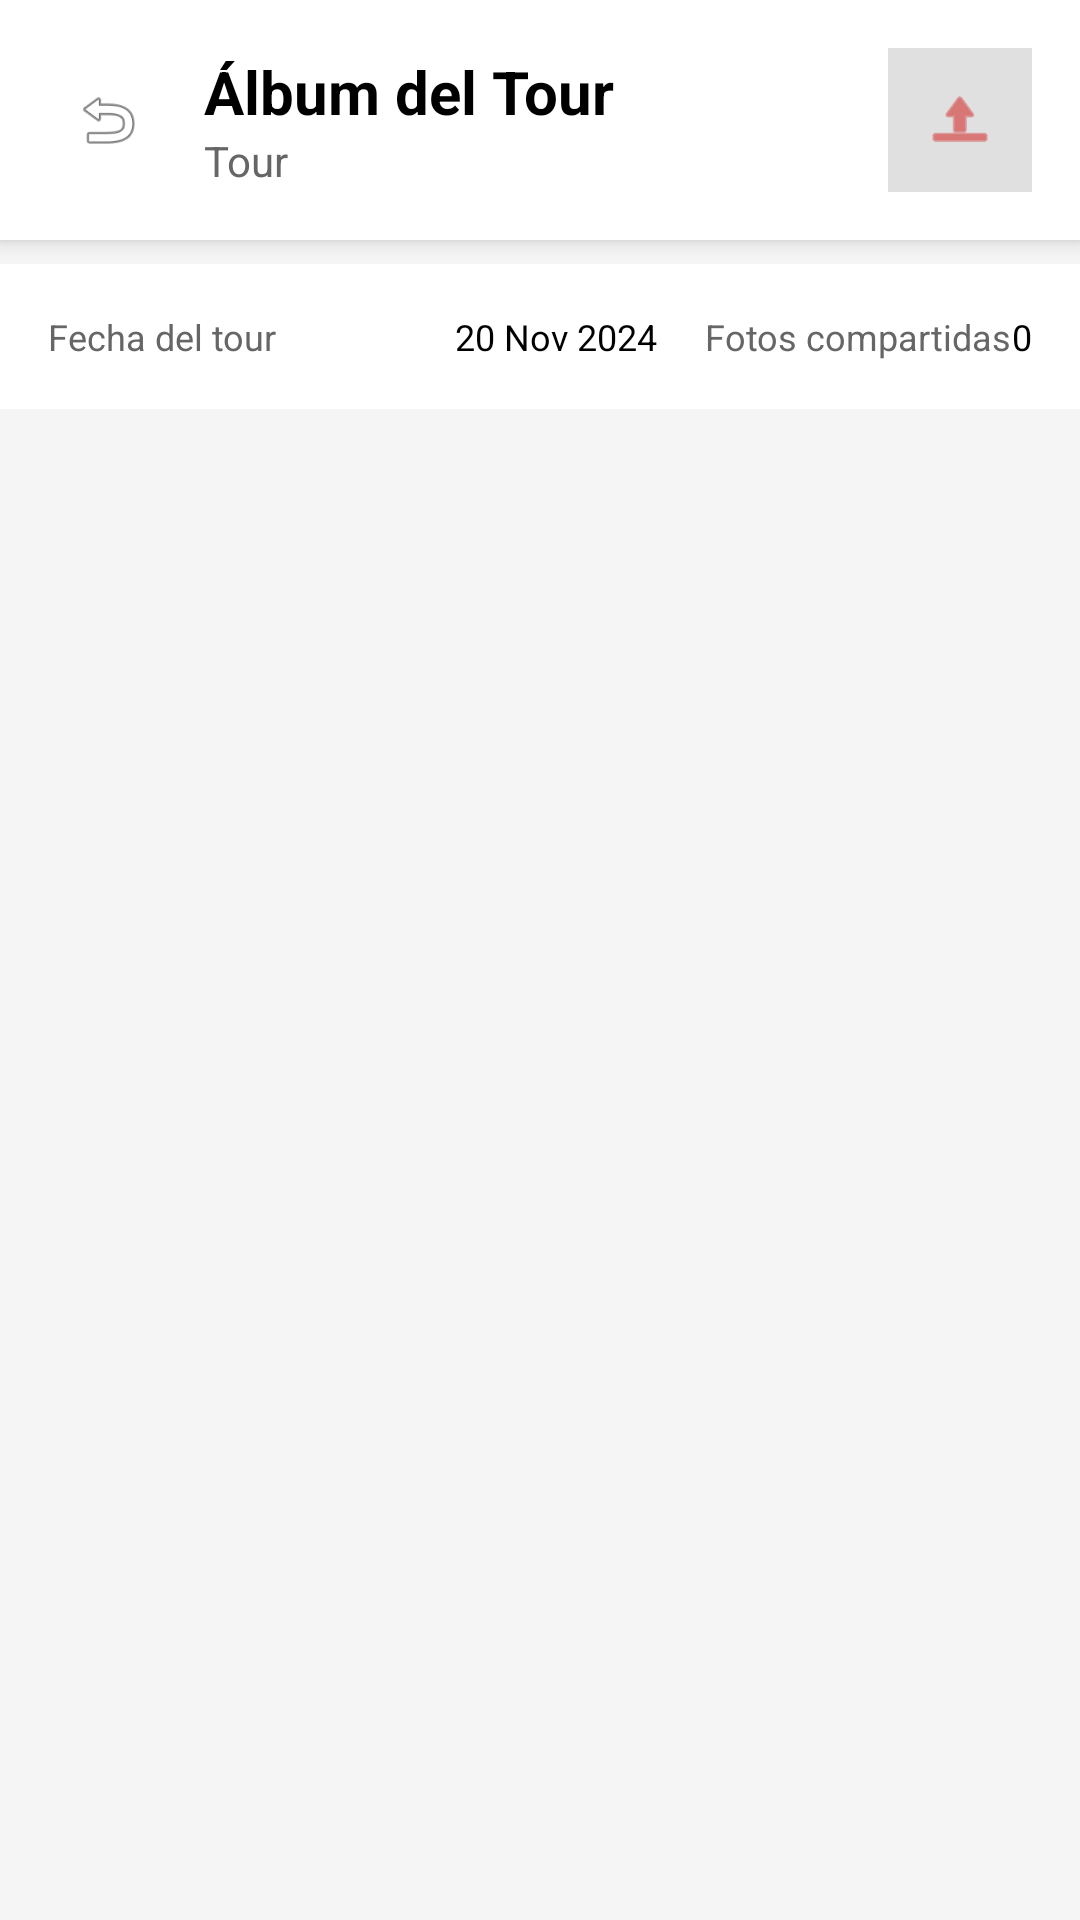

Locate icon controls on the screen. Image size 1080w x 1920h, boxes as bbox(x1, y1, x2, y2).
Volver: bbox(83, 97, 135, 144)
